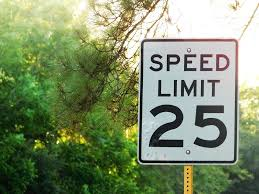sp25: (142, 100, 240, 153)
